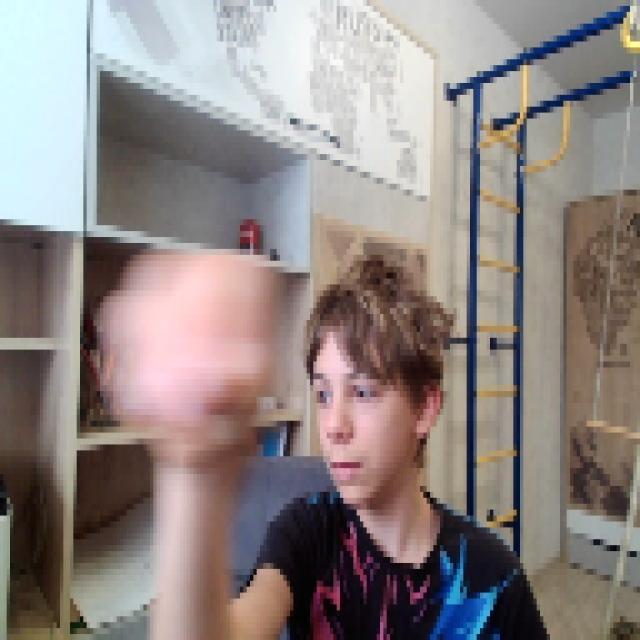left_click: (90, 237, 280, 462)
